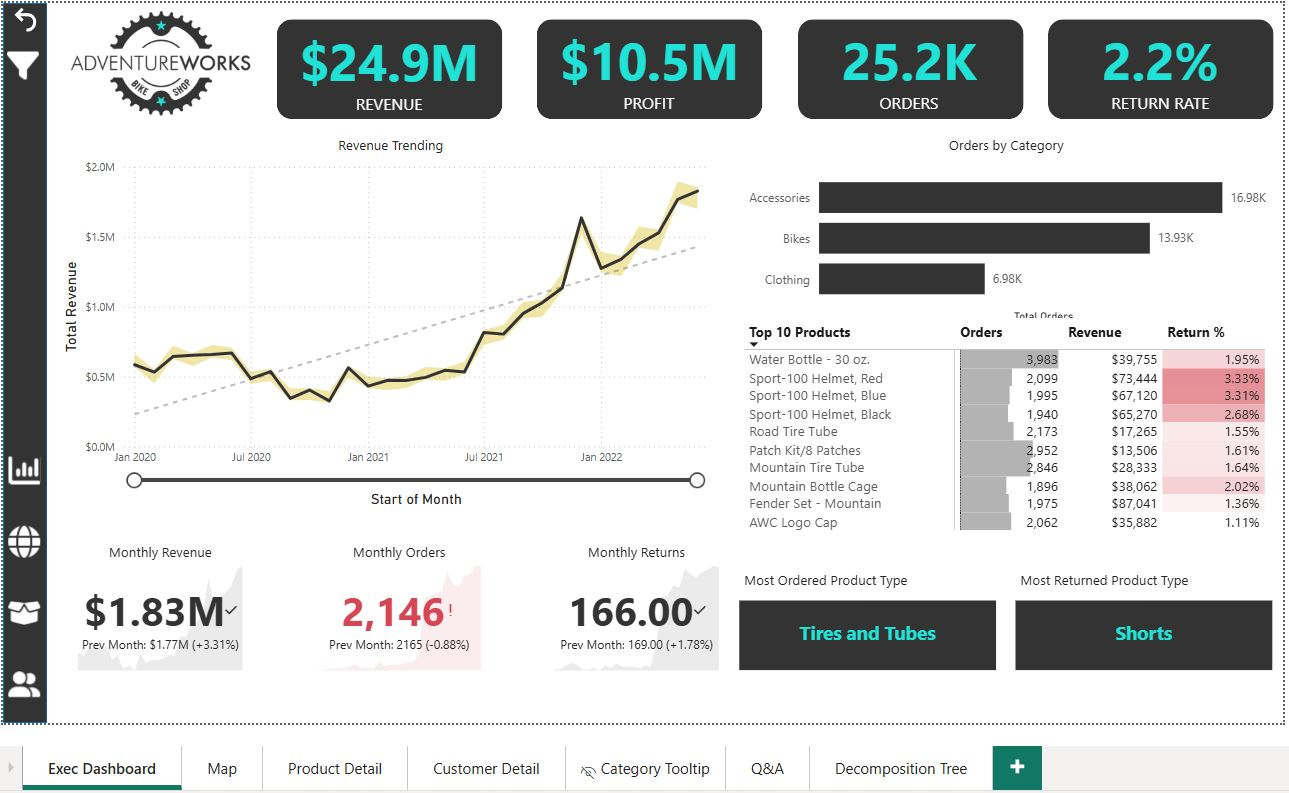

What the dashboard file says about the page in this screenshot:
{"tool":"powerbi","page":{"name":"Exec Dashboard","canvas":[1280,720],"ordinal":0},"visuals":[{"type":"shape","title":"Left Nav. Background","box":[0,0,44.3,720],"z":0},{"type":"card","fields":{"Values":["Mesure Table.Total Profit"]},"box":[530,1.2,232.5,130],"z":0,"group":"g2"},{"type":"group","id":"g1","title":"KPI Backgrounds","box":[272.8,15.7,997.1,100],"z":0,"group":"g3"},{"type":"shape","box":[272.8,15.7,225.7,100],"z":0,"group":"g1"},{"type":"actionButton","box":[1,590,44.3,40],"z":0,"group":"g4"},{"type":"image","title":"AW Logo","box":[43.8,0,228.8,121.2],"z":1000},{"type":"group","id":"g2","title":"KPI Values","box":[269.7,1.2,1004,130.8],"z":1000,"group":"g3"},{"type":"card","fields":{"Values":["Mesure Table.Total Revenue"]},"box":[269.7,2,232.5,130],"z":1000,"group":"g2"},{"type":"shape","box":[1044.2,15.7,225.7,100],"z":1000,"group":"g1"},{"type":"actionButton","box":[1,447.1,48.9,40],"z":1000,"group":"g4"},{"type":"group","id":"g3","title":"KPI'S","box":[269.7,1.2,1004,130.8],"z":2000},{"type":"card","fields":{"Values":["Mesure Table.Total Orders"]},"box":[790,1.2,232.5,130],"z":2000,"group":"g2"},{"type":"shape","box":[533.3,15.7,225.7,100],"z":2000,"group":"g1"},{"type":"actionButton","box":[1,661.4,44.3,40],"z":2000,"group":"g4"},{"type":"card","fields":{"Values":["Mesure Table.Return Rate"]},"box":[1041.2,1.2,232.5,130],"z":3000,"group":"g2"},{"type":"shape","box":[793.8,15.7,225.7,100],"z":3000,"group":"g1"},{"type":"lineChart","title":" Revenue Trending","fields":{"Category":["Calendar Lookup.Start of Month"],"Y":["Mesure Table.Total Revenue"]},"box":[55.5,132.7,665.7,376.3],"z":3000},{"type":"actionButton","box":[1,518.5,44.3,40],"z":3000,"group":"g4"},{"type":"kpi","title":"Monthly Revenue","fields":{"Indicator":["Mesure Table.Total Revenue"],"TrendLine":["Calendar Lookup.Start of Month"],"Goal":["Mesure Table.Previous Month Revenue"]},"box":[69.9,540.3,174.9,132.7],"z":4000},{"type":"kpi","title":"Monthly Orders","fields":{"TrendLine":["Calendar Lookup.Start of Month"],"Indicator":["Mesure Table.Total Orders"],"Goal":["Mesure Table.Previous Month Orders"]},"box":[308.1,540.3,174.9,132.7],"z":5000},{"type":"kpi","title":"Monthly Returns","fields":{"TrendLine":["Calendar Lookup.Start of Month"],"Indicator":["Customer Lookup.Total Returns"],"Goal":["Mesure Table.Previous Month Returns"]},"box":[546.3,540.3,174.9,132.7],"z":6000},{"type":"clusteredBarChart","title":"Orders by Category","fields":{"Category":["Product Categories Lookup.CategoryName"],"Y":["Mesure Table.Total Orders"]},"box":[735.7,132.7,534.3,191.8],"z":7000},{"type":"pivotTable","fields":{"Rows":["Product Lookup.ProductName"],"Values":["Mesure Table.Total Orders","Mesure Table.Total Revenue","Mesure Table.Return Rate"]},"box":[736.2,315,532.5,225],"z":8000},{"type":"card","fields":{"Values":["Min(Product Subcategories Lookup.SubcategoryName)"]},"box":[736.1,597.9,256.8,69.7],"z":9000},{"type":"textbox","box":[736.2,562.2,256.2,35],"z":10000},{"type":"card","fields":{"Values":["Min(Product Subcategories Lookup.SubcategoryName)"]},"box":[1012.5,597.9,256.8,69.7],"z":11000},{"type":"textbox","box":[1012.5,562.2,256.2,35],"z":12000},{"type":"actionButton","box":[5.7,0,38.6,32.9],"z":13000},{"type":"group","id":"g4","title":"Navigation Buttons","box":[1,447.1,48.9,254.3],"z":14000},{"type":"actionButton","box":[0,42.9,44.3,40],"z":15000}]}

Visuals, with their boxes on the page's 1280x720 design canvas (x1, y1, x2, y2). These are canvas units, not pixel positions in the 1289x793 screenshot, which may show the page scaled, cropped or inside an application window:
"Left Nav. Background" shape: {"left": 0, "top": 0, "right": 44, "bottom": 720}
card - Mesure Table.Total Profit: {"left": 530, "top": 1, "right": 762, "bottom": 131}
"KPI Backgrounds" group: {"left": 273, "top": 16, "right": 1270, "bottom": 116}
shape: {"left": 273, "top": 16, "right": 498, "bottom": 116}
actionButton: {"left": 1, "top": 590, "right": 45, "bottom": 630}
"AW Logo" image: {"left": 44, "top": 0, "right": 273, "bottom": 121}
"KPI Values" group: {"left": 270, "top": 1, "right": 1274, "bottom": 132}
card - Mesure Table.Total Revenue: {"left": 270, "top": 2, "right": 502, "bottom": 132}
shape: {"left": 1044, "top": 16, "right": 1270, "bottom": 116}
actionButton: {"left": 1, "top": 447, "right": 50, "bottom": 487}
"KPI'S" group: {"left": 270, "top": 1, "right": 1274, "bottom": 132}
card - Mesure Table.Total Orders: {"left": 790, "top": 1, "right": 1022, "bottom": 131}
shape: {"left": 533, "top": 16, "right": 759, "bottom": 116}
actionButton: {"left": 1, "top": 661, "right": 45, "bottom": 701}
card - Mesure Table.Return Rate: {"left": 1041, "top": 1, "right": 1274, "bottom": 131}
shape: {"left": 794, "top": 16, "right": 1020, "bottom": 116}
" Revenue Trending" lineChart: {"left": 56, "top": 133, "right": 721, "bottom": 509}
actionButton: {"left": 1, "top": 518, "right": 45, "bottom": 558}
"Monthly Revenue" kpi: {"left": 70, "top": 540, "right": 245, "bottom": 673}
"Monthly Orders" kpi: {"left": 308, "top": 540, "right": 483, "bottom": 673}
"Monthly Returns" kpi: {"left": 546, "top": 540, "right": 721, "bottom": 673}
"Orders by Category" clusteredBarChart: {"left": 736, "top": 133, "right": 1270, "bottom": 324}
pivotTable - Product Lookup.ProductName x Mesure Table.Total Orders: {"left": 736, "top": 315, "right": 1269, "bottom": 540}
card - Min(Product Subcategories Lookup.SubcategoryName): {"left": 736, "top": 598, "right": 993, "bottom": 668}
textbox: {"left": 736, "top": 562, "right": 992, "bottom": 597}
card - Min(Product Subcategories Lookup.SubcategoryName): {"left": 1012, "top": 598, "right": 1269, "bottom": 668}
textbox: {"left": 1012, "top": 562, "right": 1269, "bottom": 597}
actionButton: {"left": 6, "top": 0, "right": 44, "bottom": 33}
"Navigation Buttons" group: {"left": 1, "top": 447, "right": 50, "bottom": 701}
actionButton: {"left": 0, "top": 43, "right": 44, "bottom": 83}
